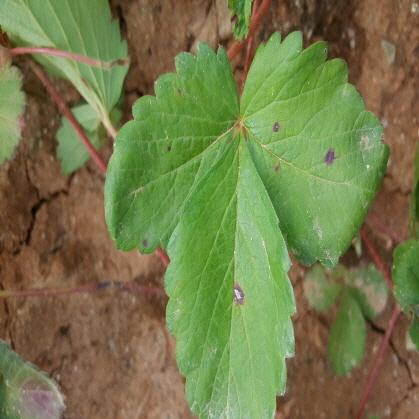Leaf Spot: (163, 125, 296, 418), (239, 30, 390, 271), (104, 40, 240, 253), (0, 44, 28, 174), (301, 261, 348, 312)
